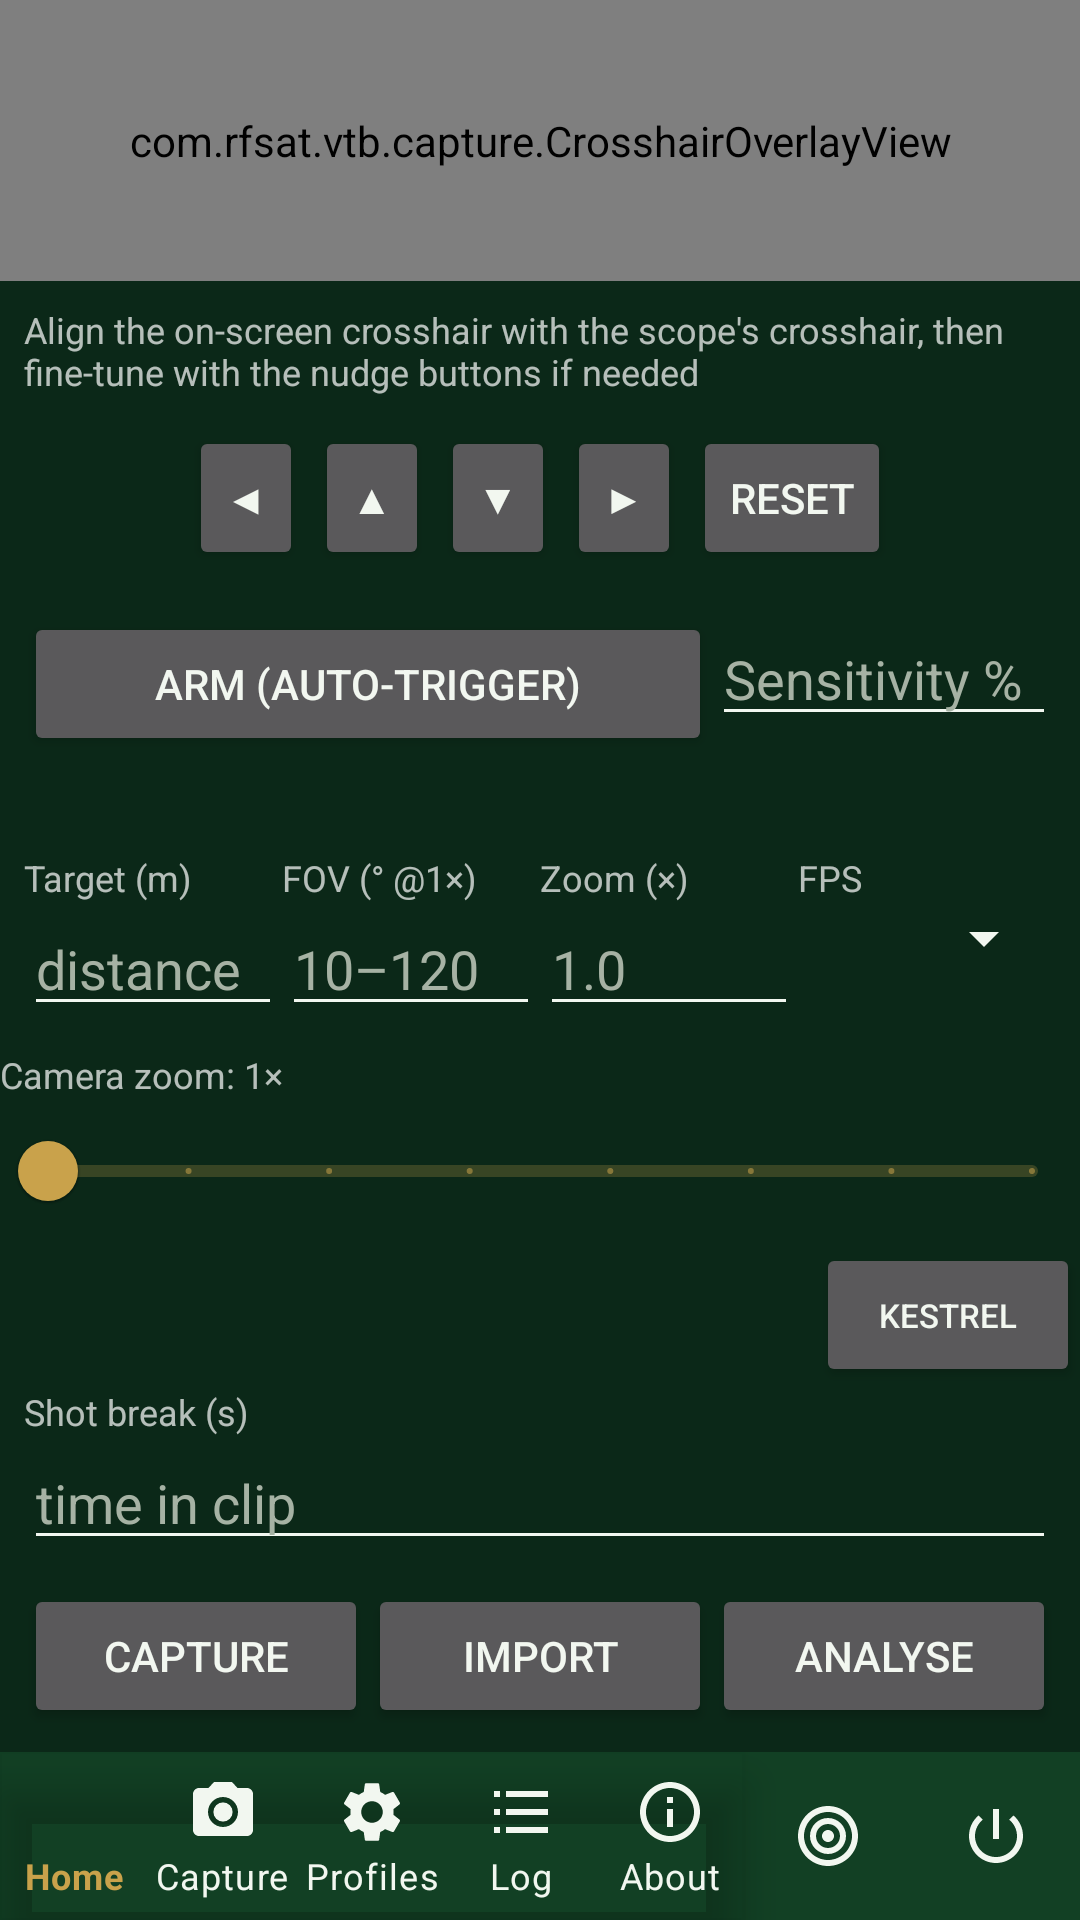

Where to tap for icons on this 1080×1920 app screen, as [x,y]:
exit: [996,1836]
